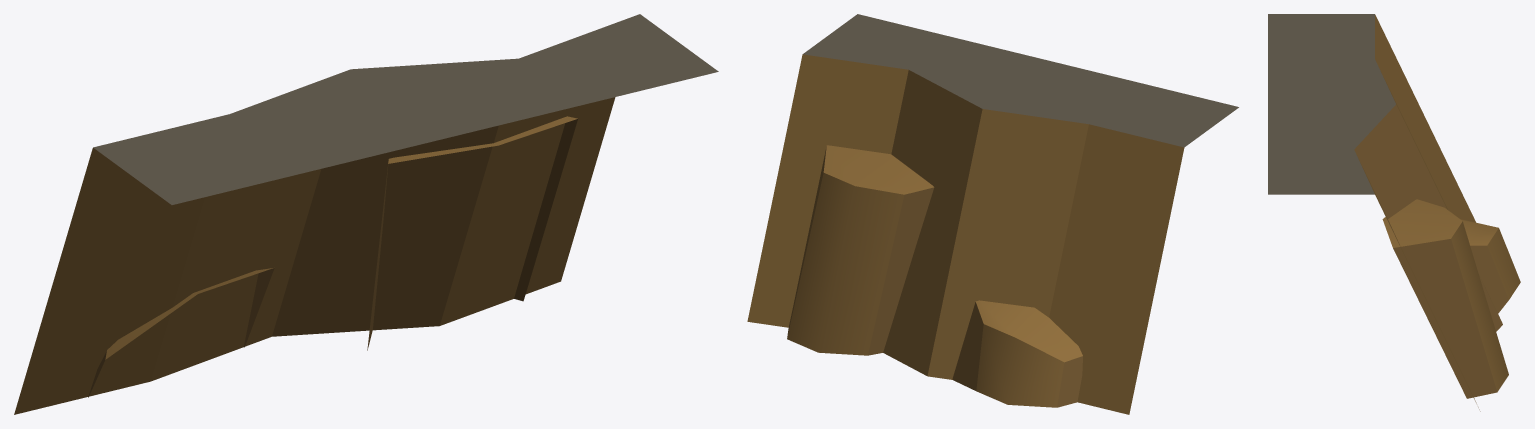
Rendered from SF_Env_MudEdge_Straight_01.fbx.
3 views of the same model, side by side, from view 1: azimuth 30°, elevation 25°; view 2: azimuth 150°, elevation 25°; view 3: azimuth 270°, elevation 25° (orthographic). The views are drawn at different scales.
Visible parts, largest first — view 1: SF_Env_MudEdge_Straight_01; view 2: SF_Env_MudEdge_Straight_01; view 3: SF_Env_MudEdge_Straight_01.
Boxes of the visible parts, x1=… form: SF_Env_MudEdge_Straight_01: x1=14, y1=14, x2=718, y2=414; SF_Env_MudEdge_Straight_01: x1=747, y1=14, x2=1238, y2=414; SF_Env_MudEdge_Straight_01: x1=1268, y1=14, x2=1520, y2=411.
Bounding box in the file's own units: 10 × 5.68 × 5.91.
